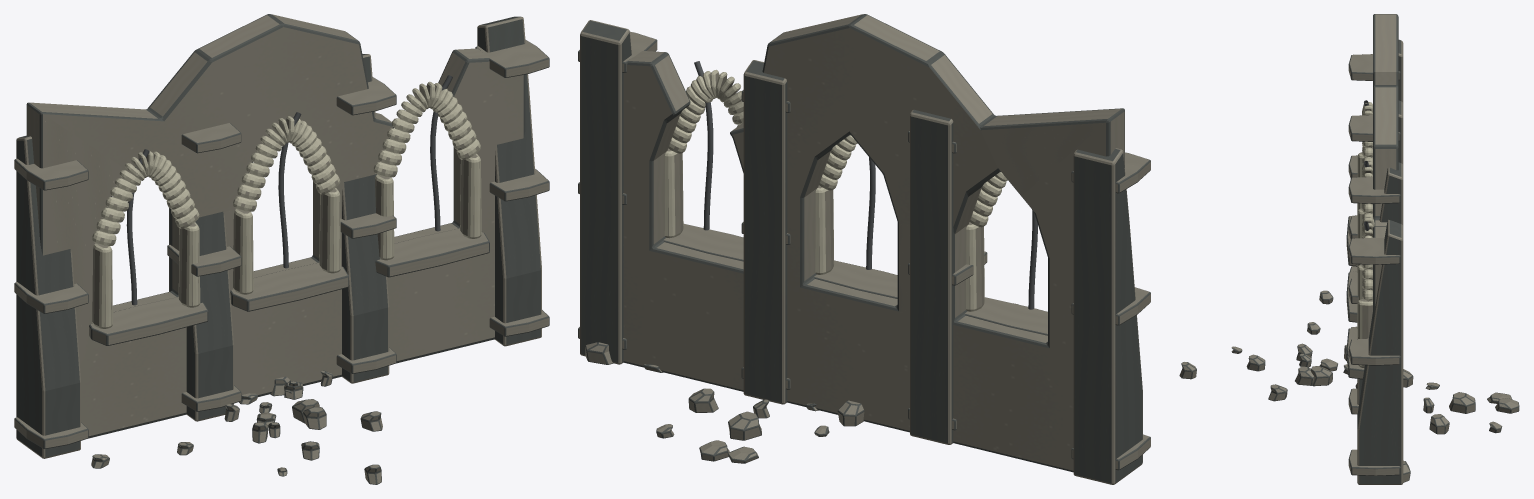
The model's file is cloister.glb.
3 views of the same model, side by side, from view 1: azimuth 30°, elevation 25°; view 2: azimuth 150°, elevation 25°; view 3: azimuth 270°, elevation 25° (orthographic). The views are drawn at different scales.
Parts seen in each view (by area): view 1: GT_0130_cloister; view 2: GT_0130_cloister; view 3: GT_0130_cloister.
Part boxes in pixels (bbox=[...]): GT_0130_cloister: bbox=[14, 14, 549, 484]; GT_0130_cloister: bbox=[578, 14, 1150, 484]; GT_0130_cloister: bbox=[1179, 14, 1519, 484].
Size of the model in its own units: 8.42 by 5.79 by 5.94.
1 material, 1 textured.
